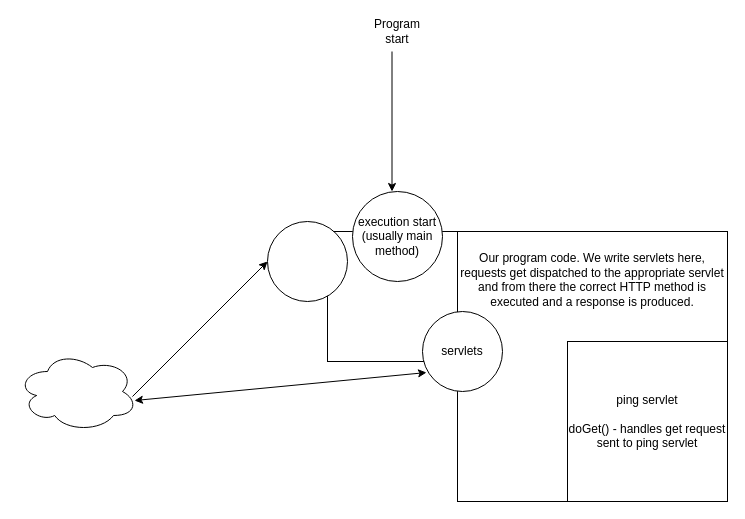
Some shapes in this 745 by 519 pixel diagram are drawn without their labels. The box of each missing label's shape, as (x1, y1, x2, y2) in pixels:
listener: (266, 220, 348, 302)
Webserver Apache Tomcat 8: (326, 230, 458, 362)
